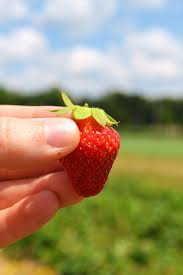ripe: (48, 101, 126, 202)
